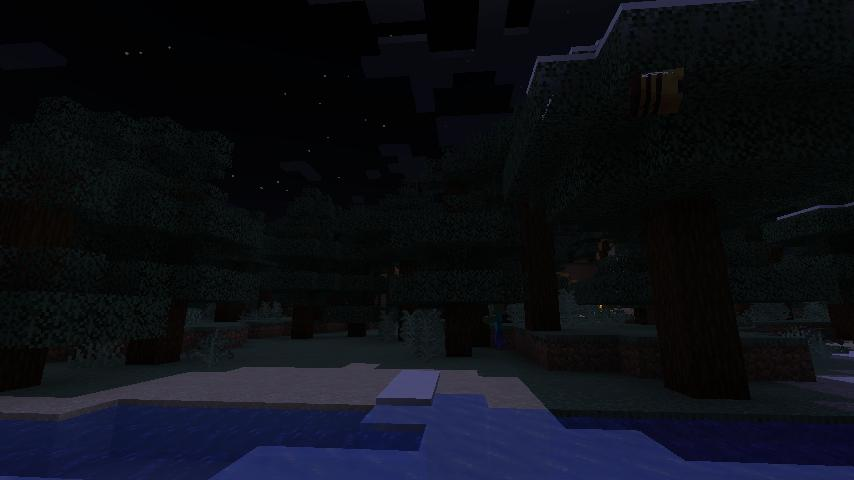bee: (628, 63, 689, 117)
zombie: (481, 303, 508, 349)
